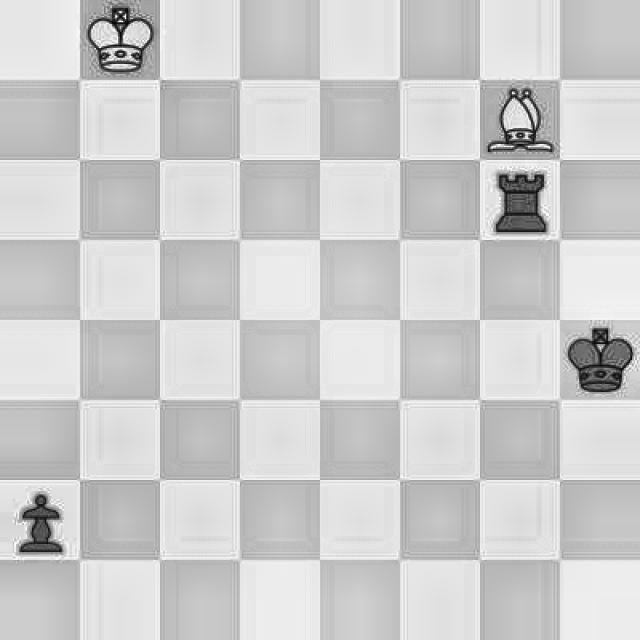black king: (558, 318, 640, 400)
black pawn: (0, 480, 83, 563)
black rook: (482, 165, 560, 240)
white bishop: (482, 80, 564, 161)
white king: (75, 3, 162, 82)
